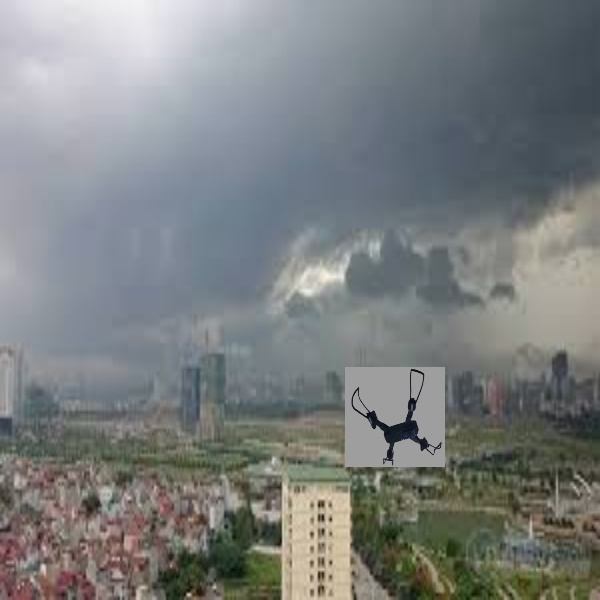drone: (347, 367, 448, 464)
